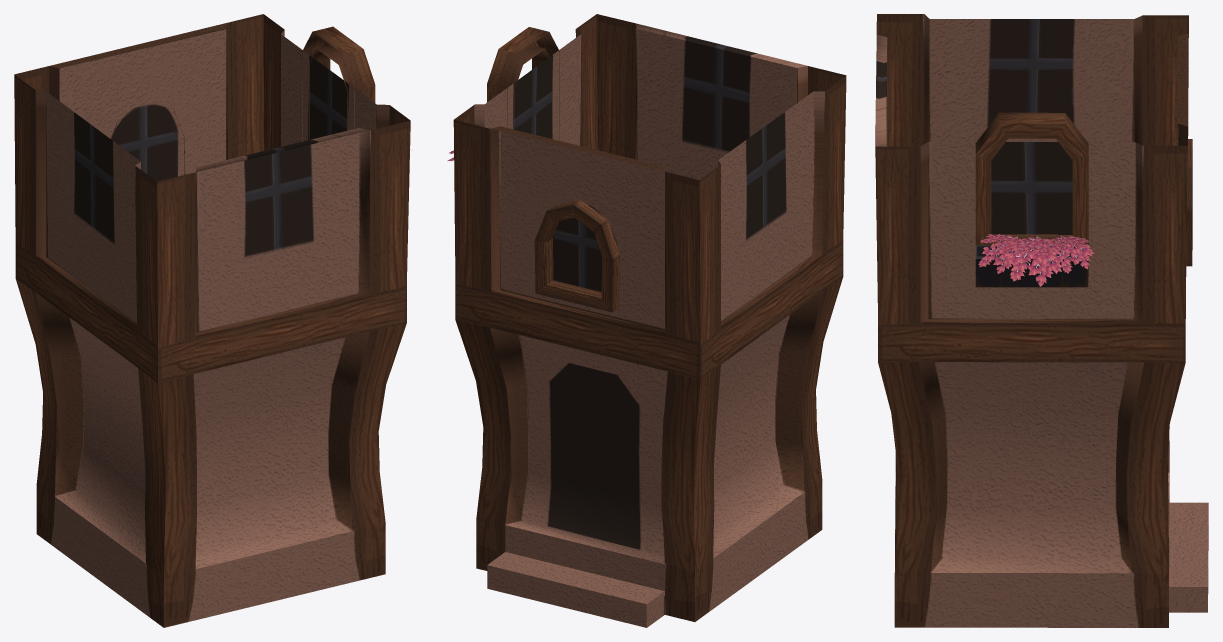
Rendered from House6.fbx.
The picture shows the model from 3 angles, left to right: view 1: azimuth 30°, elevation 25°; view 2: azimuth 150°, elevation 25°; view 3: azimuth 270°, elevation 25°; orthographic projection. The views are drawn at different scales.
Visible parts, largest first — view 1: HouseMesh6; view 2: HouseMesh6; view 3: HouseMesh6.
Part boxes in pixels (x1,y1,x2,y2): HouseMesh6: (14,14,410,627); HouseMesh6: (447,14,846,627); HouseMesh6: (875,14,1208,627).
Size of the model in its own units: 25.34 by 36.48 by 21.28.
Materials: 4 (4 with a texture image).
